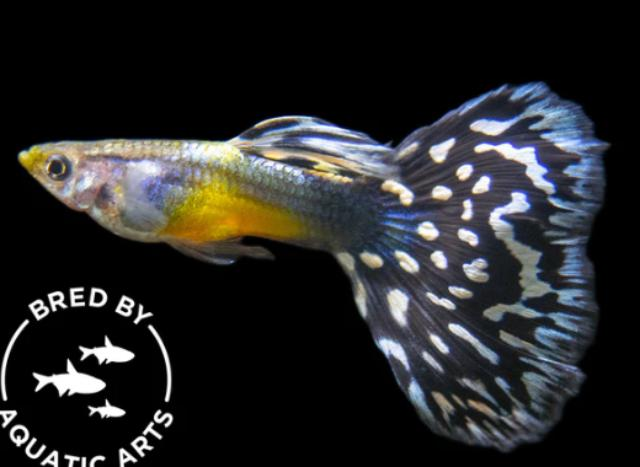Mulut: (2, 118, 58, 190)
Sirip Anal: (216, 224, 298, 276)
Sirip Dada: (98, 152, 182, 250)
Sirip Ekor: (341, 71, 621, 458)
Sirip Perut: (159, 228, 241, 282)
Sirip Punggung: (229, 105, 409, 205)
